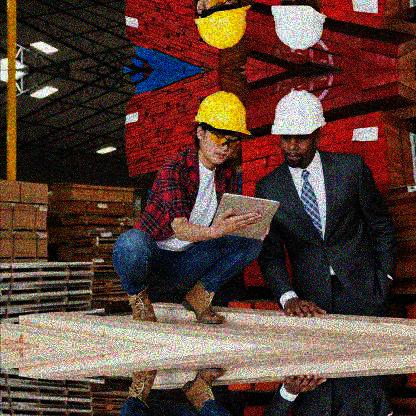helmet: (270, 90, 331, 169), (190, 91, 249, 168), (191, 1, 253, 49)
